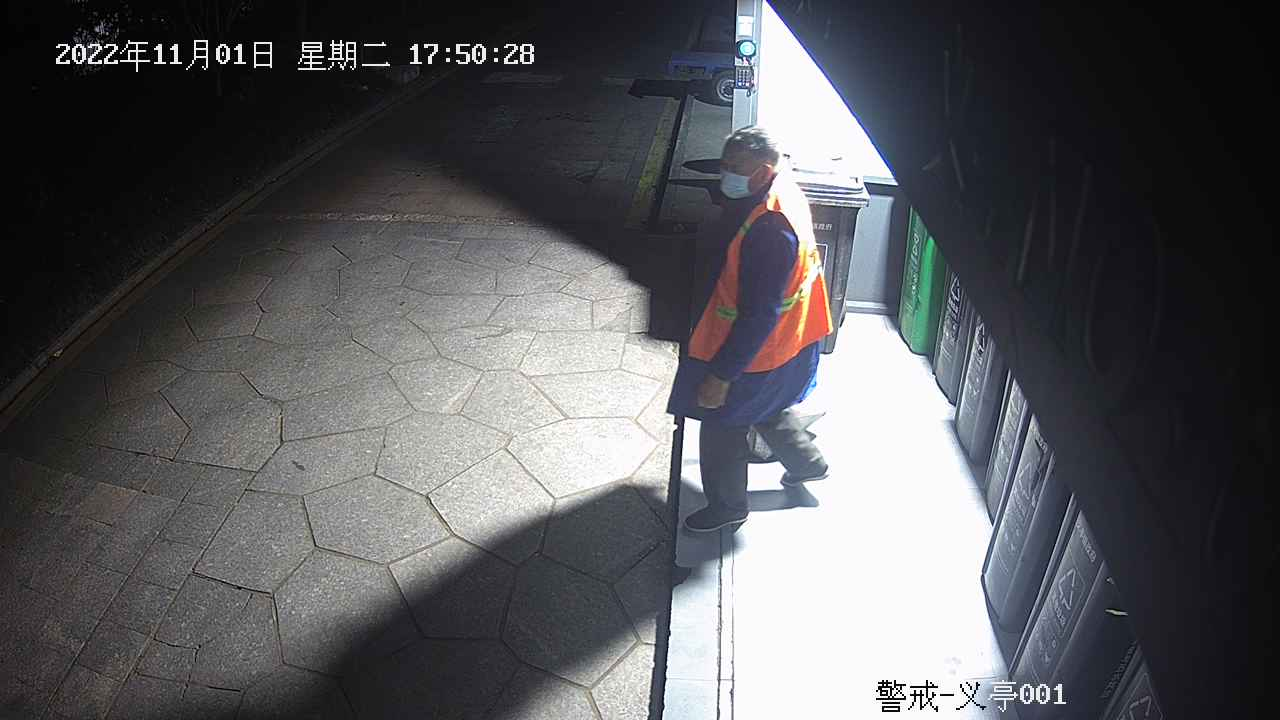worker: (665, 122, 835, 536)
